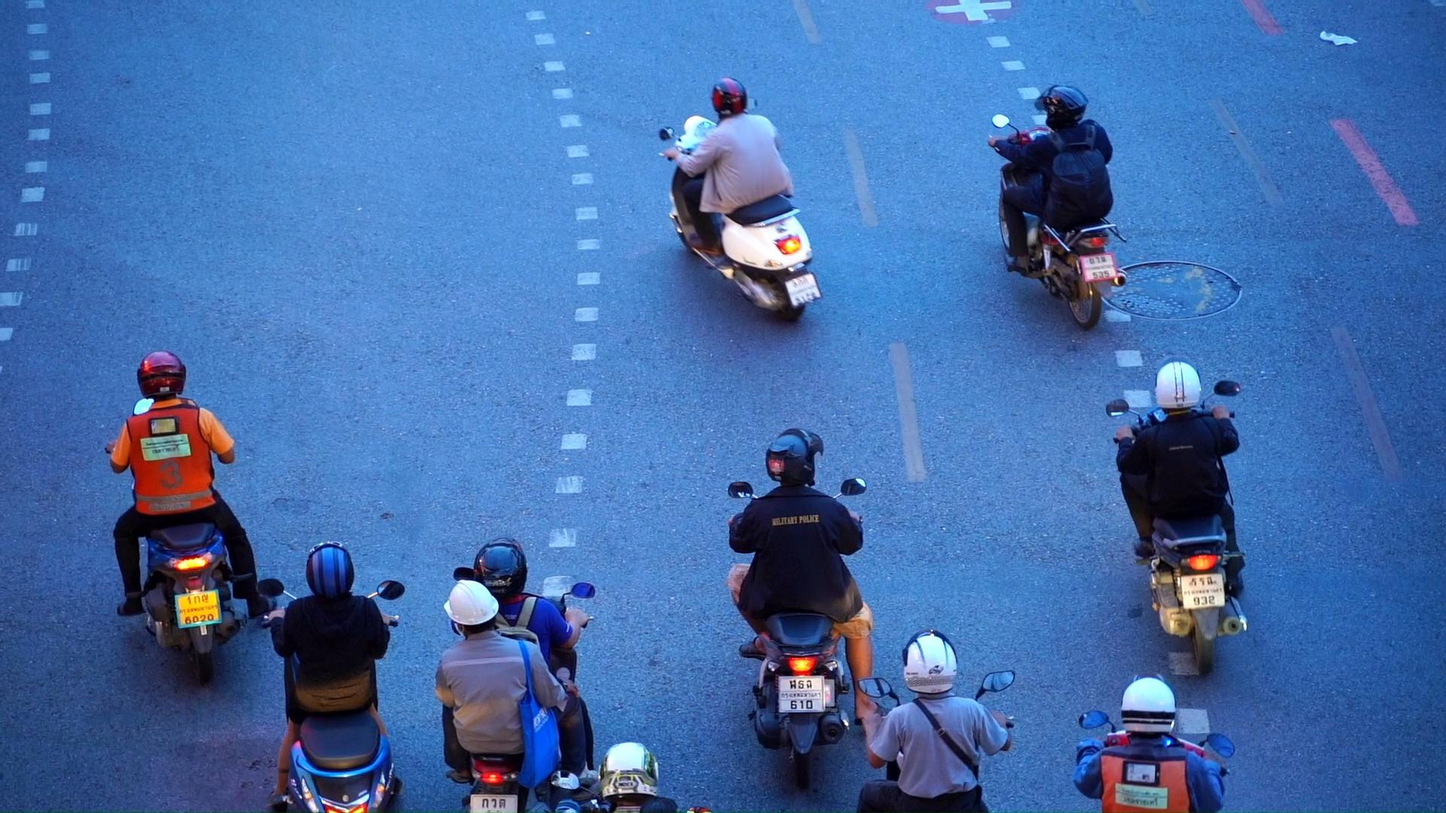driver: (727, 428, 894, 788), (105, 350, 277, 683), (1105, 355, 1249, 677), (436, 537, 599, 813), (255, 540, 405, 813), (660, 78, 824, 323), (990, 85, 1129, 329), (857, 629, 1017, 813), (1071, 672, 1234, 813)
helmet: (902, 629, 959, 696), (1120, 672, 1177, 739), (598, 742, 659, 803), (473, 537, 528, 601), (766, 428, 823, 488), (444, 579, 499, 639), (306, 540, 355, 600), (1155, 355, 1201, 414), (1034, 85, 1089, 134), (137, 350, 186, 400), (711, 78, 747, 120)
